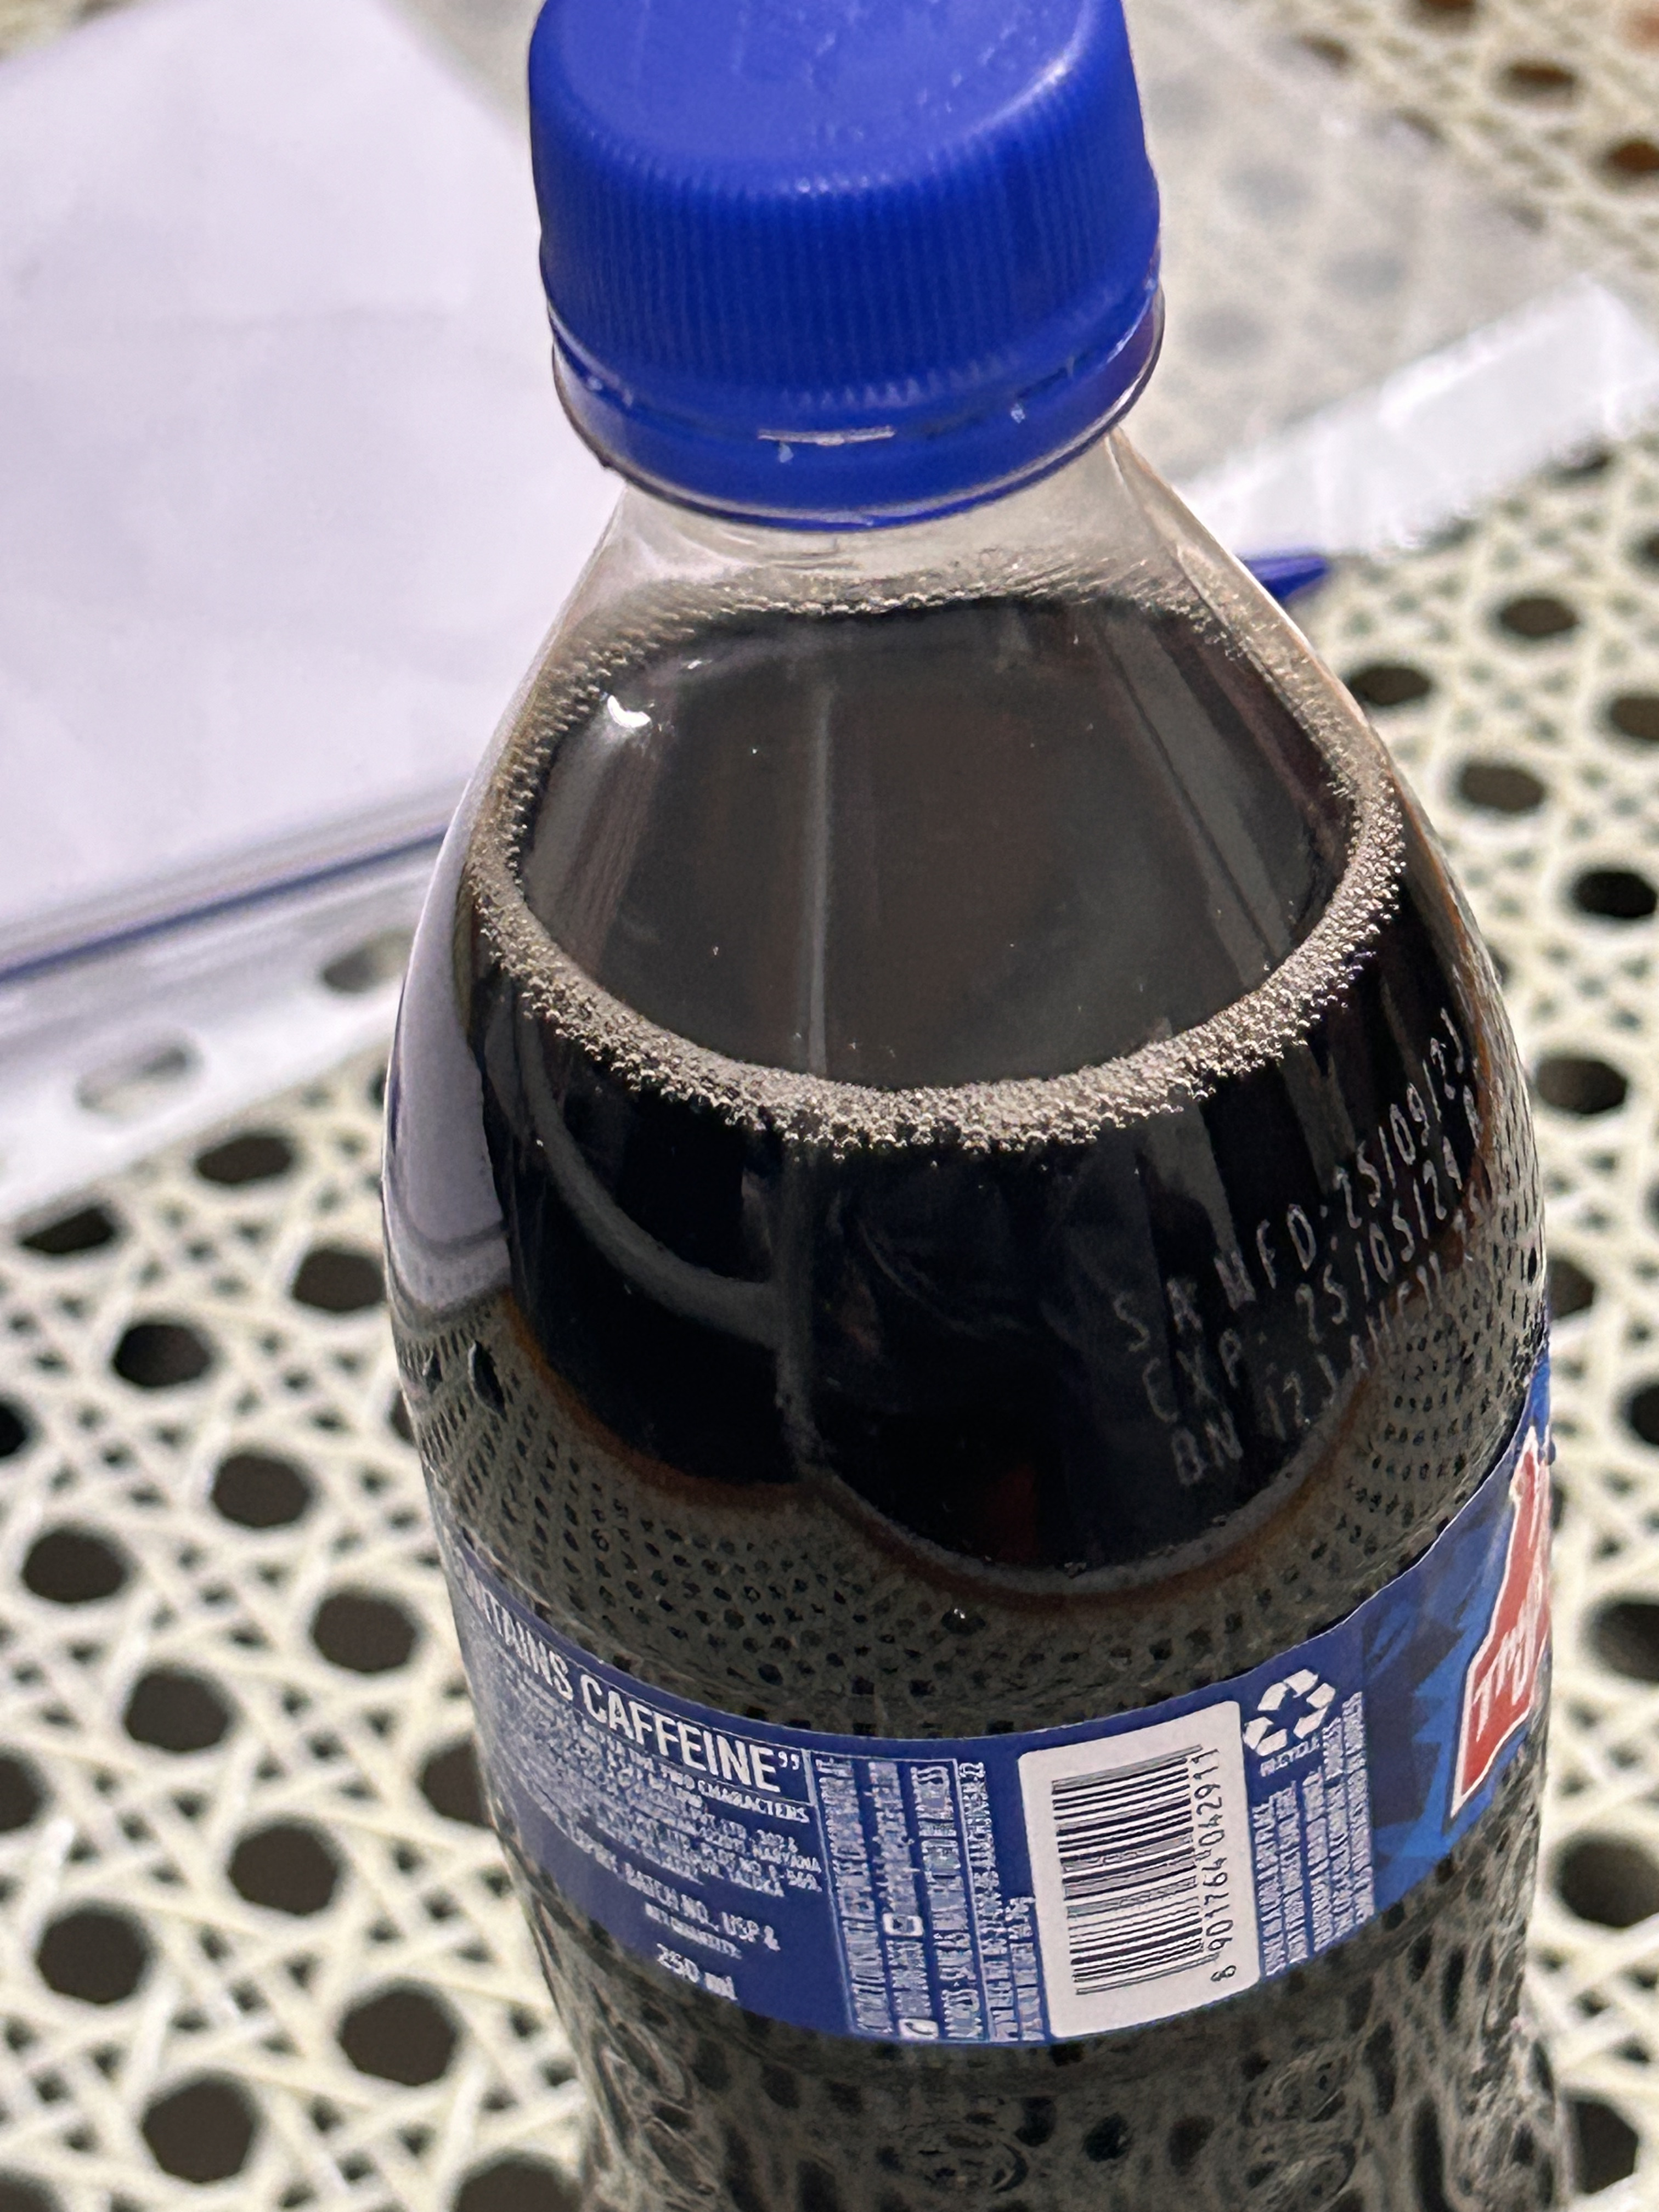unsealed: (505, 14, 1208, 547)
